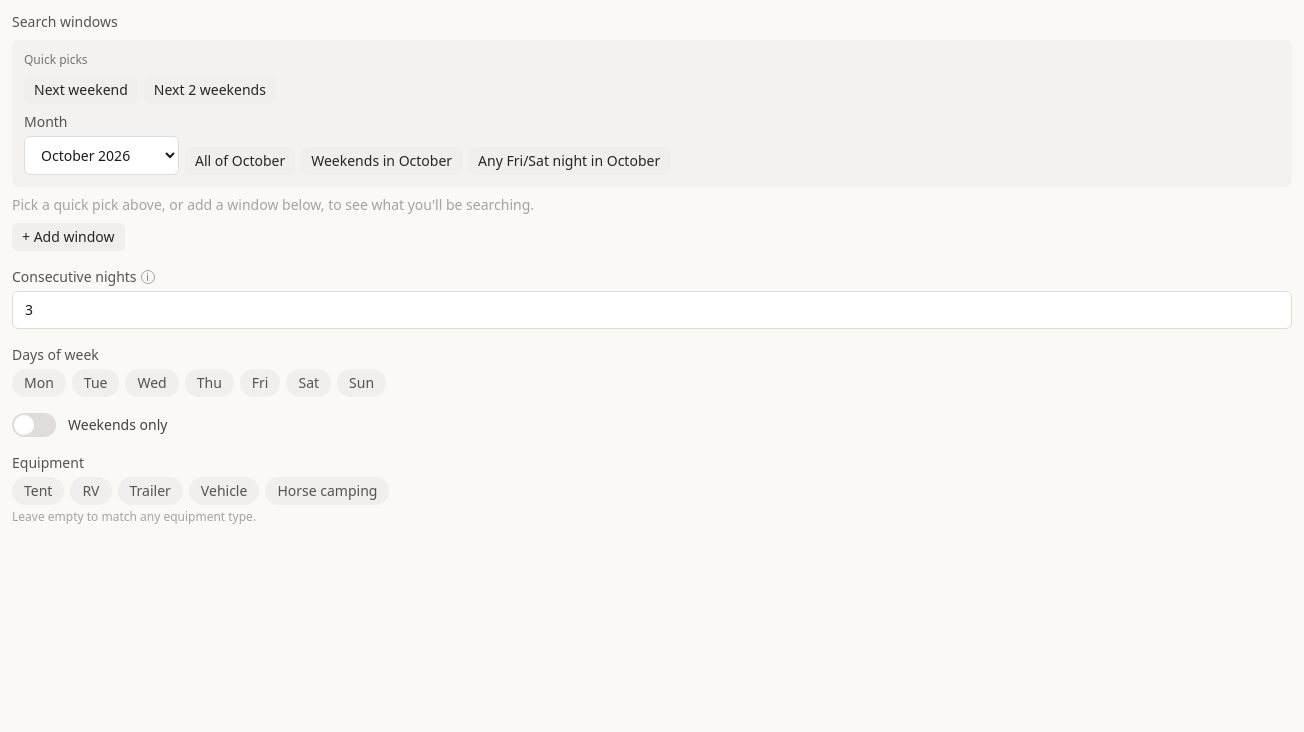
Test: DatesFiltersFields — consecutive nights input › resets an empty field back to 1 on blur
Step 1. Clear the number field labelled "Consecutive nights i" → point(652, 310), box [12,291,1292,329]
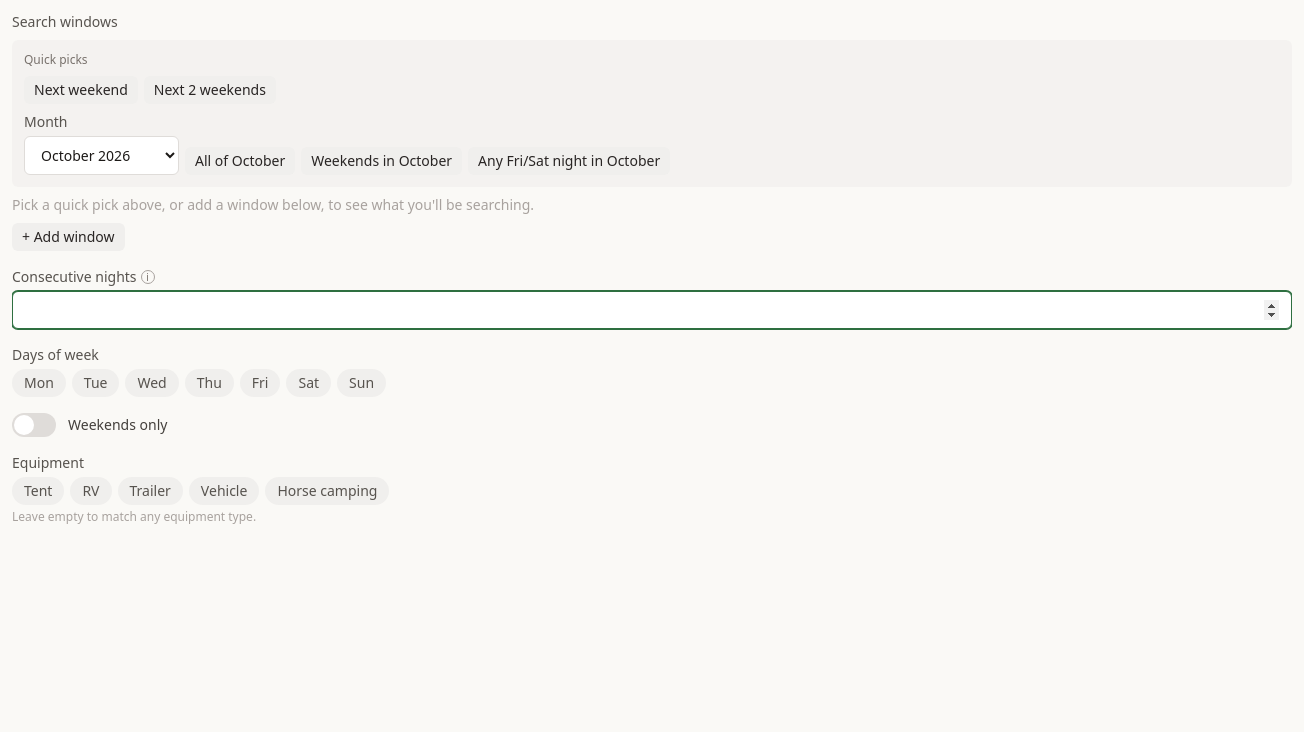
Step 2. Press Tab
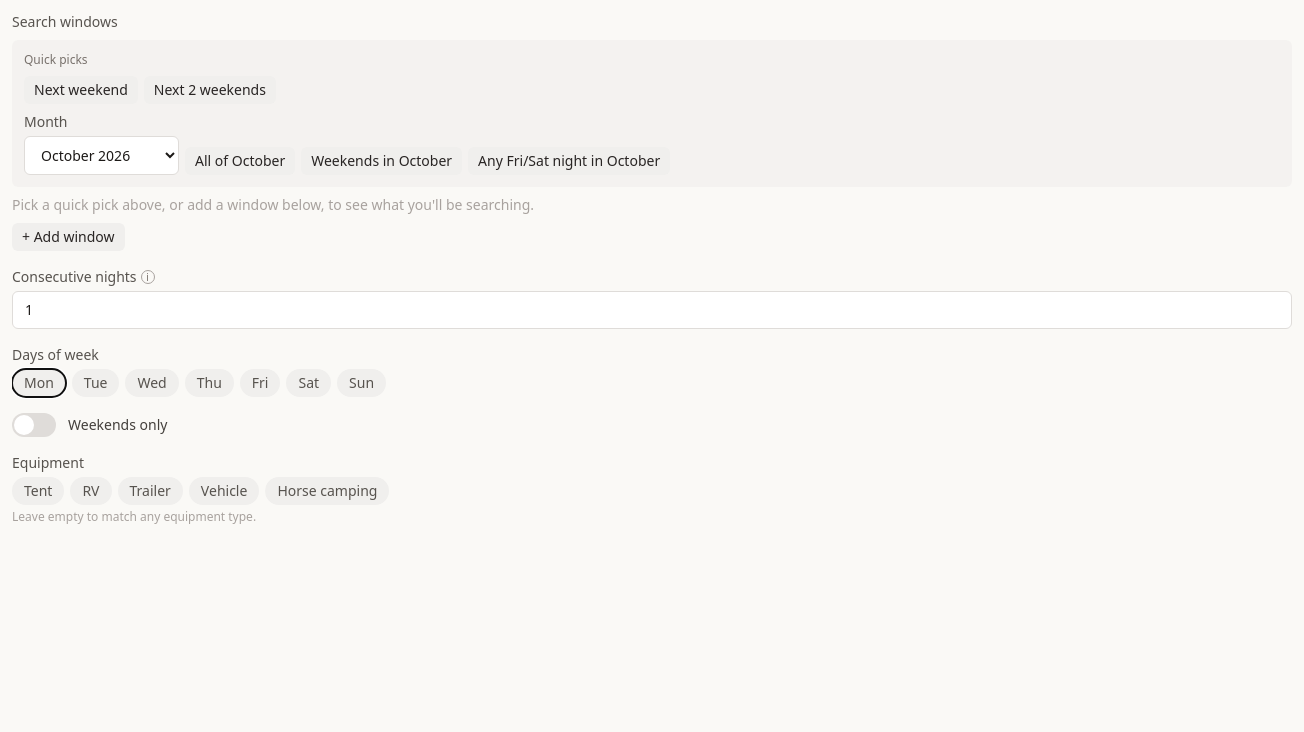
Now the number field labelled "Consecutive nights i" holds "1", box [12,291,1292,329]
